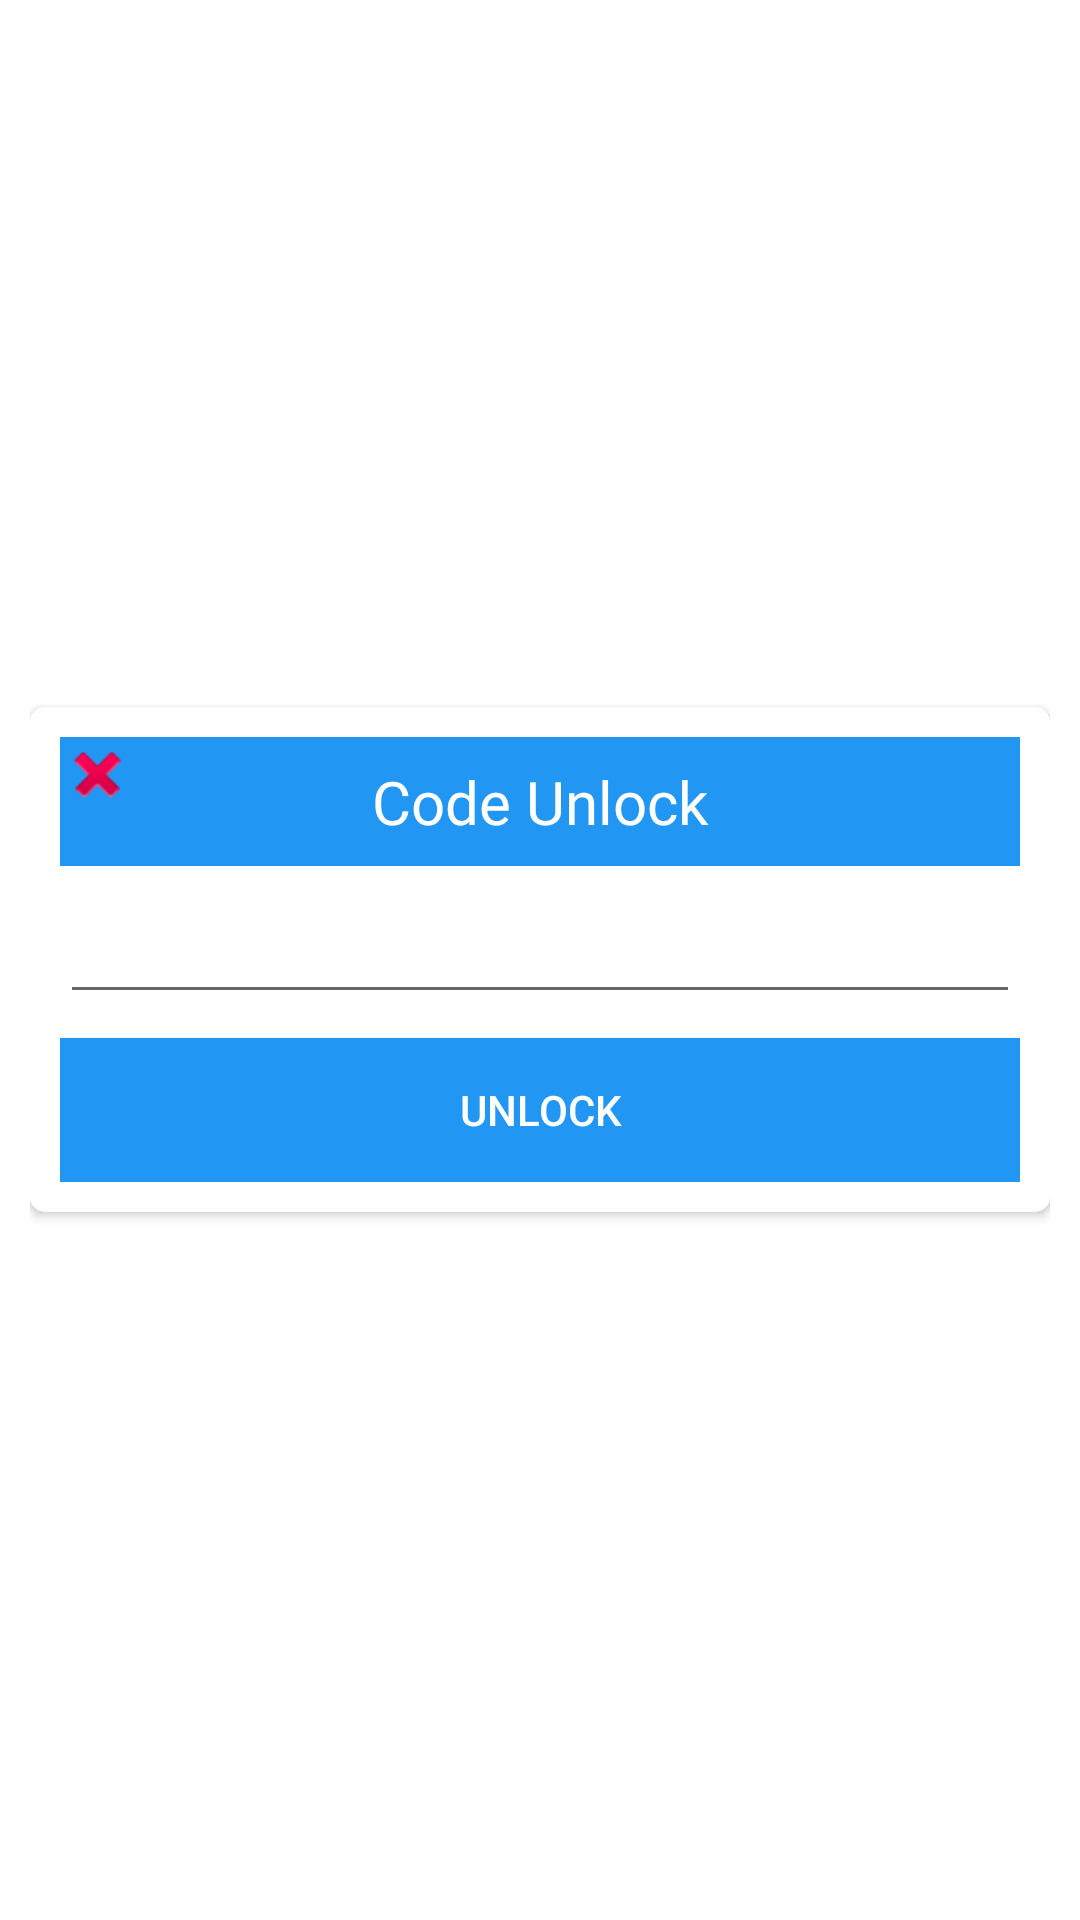

Screen size 1080 × 1920. Icon name, then its box in pixels as box=[x1, y1, x2, y2]:
delete: box=[74, 752, 121, 798]
